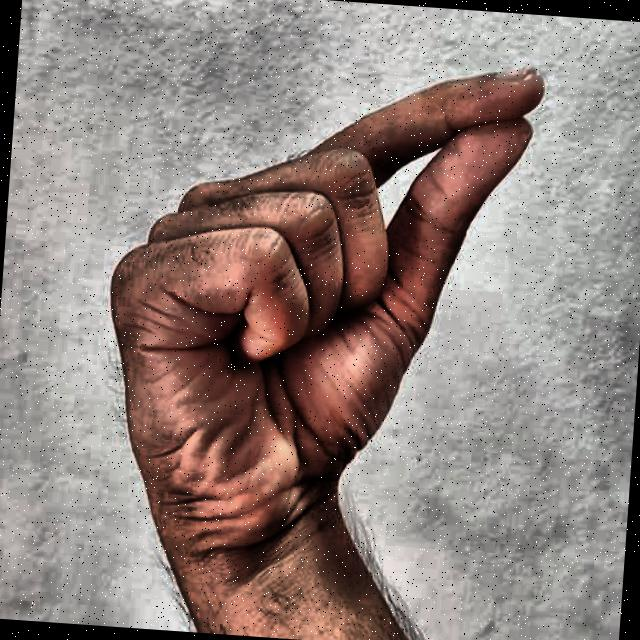Anusshar: (28, 0, 558, 619)
